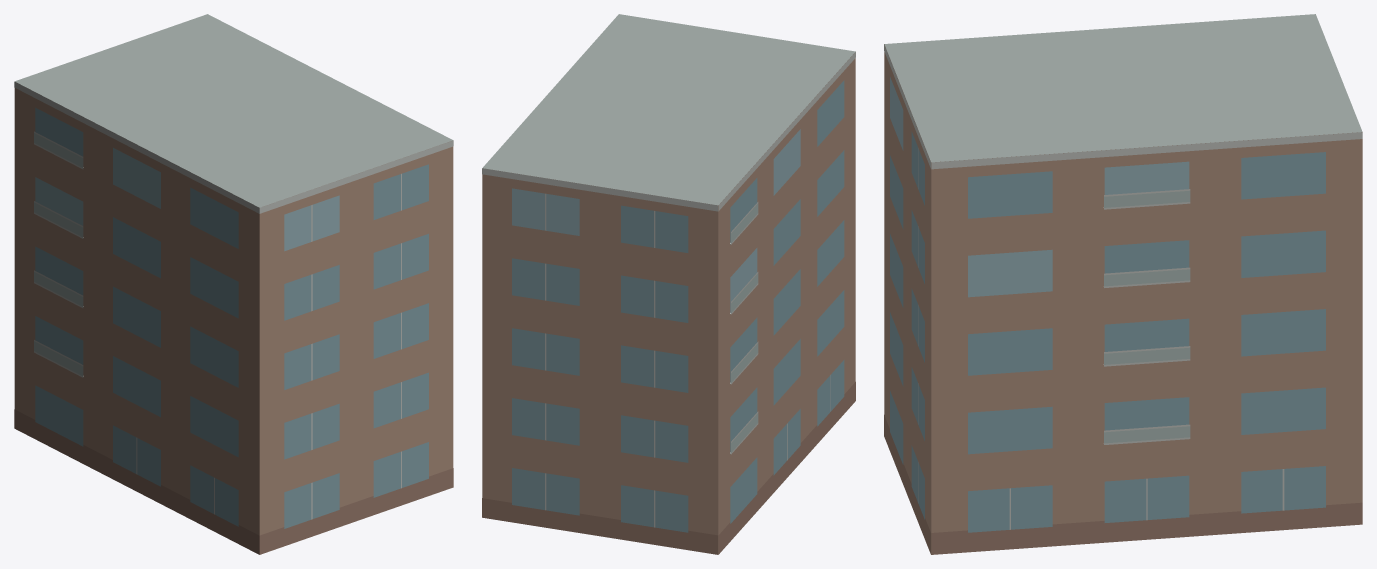
The model's file is survey-upis-32907298.glb.
3 renders of one model, left to right at view 1: azimuth 30°, elevation 25°; view 2: azimuth 150°, elevation 25°; view 3: azimuth 270°, elevation 25°, orthographic. The views are drawn at different scales.
Visible parts, largest first — view 1: survey-upis-32907298.tmp; view 2: survey-upis-32907298.tmp; view 3: survey-upis-32907298.tmp.
Boxes of the visible parts, left/top/right/bottom form: survey-upis-32907298.tmp: left=14, top=14, right=453, bottom=554; survey-upis-32907298.tmp: left=482, top=14, right=855, bottom=554; survey-upis-32907298.tmp: left=884, top=14, right=1362, bottom=554.
Size of the model in its own units: 11.2 by 13.8 by 15.25.
